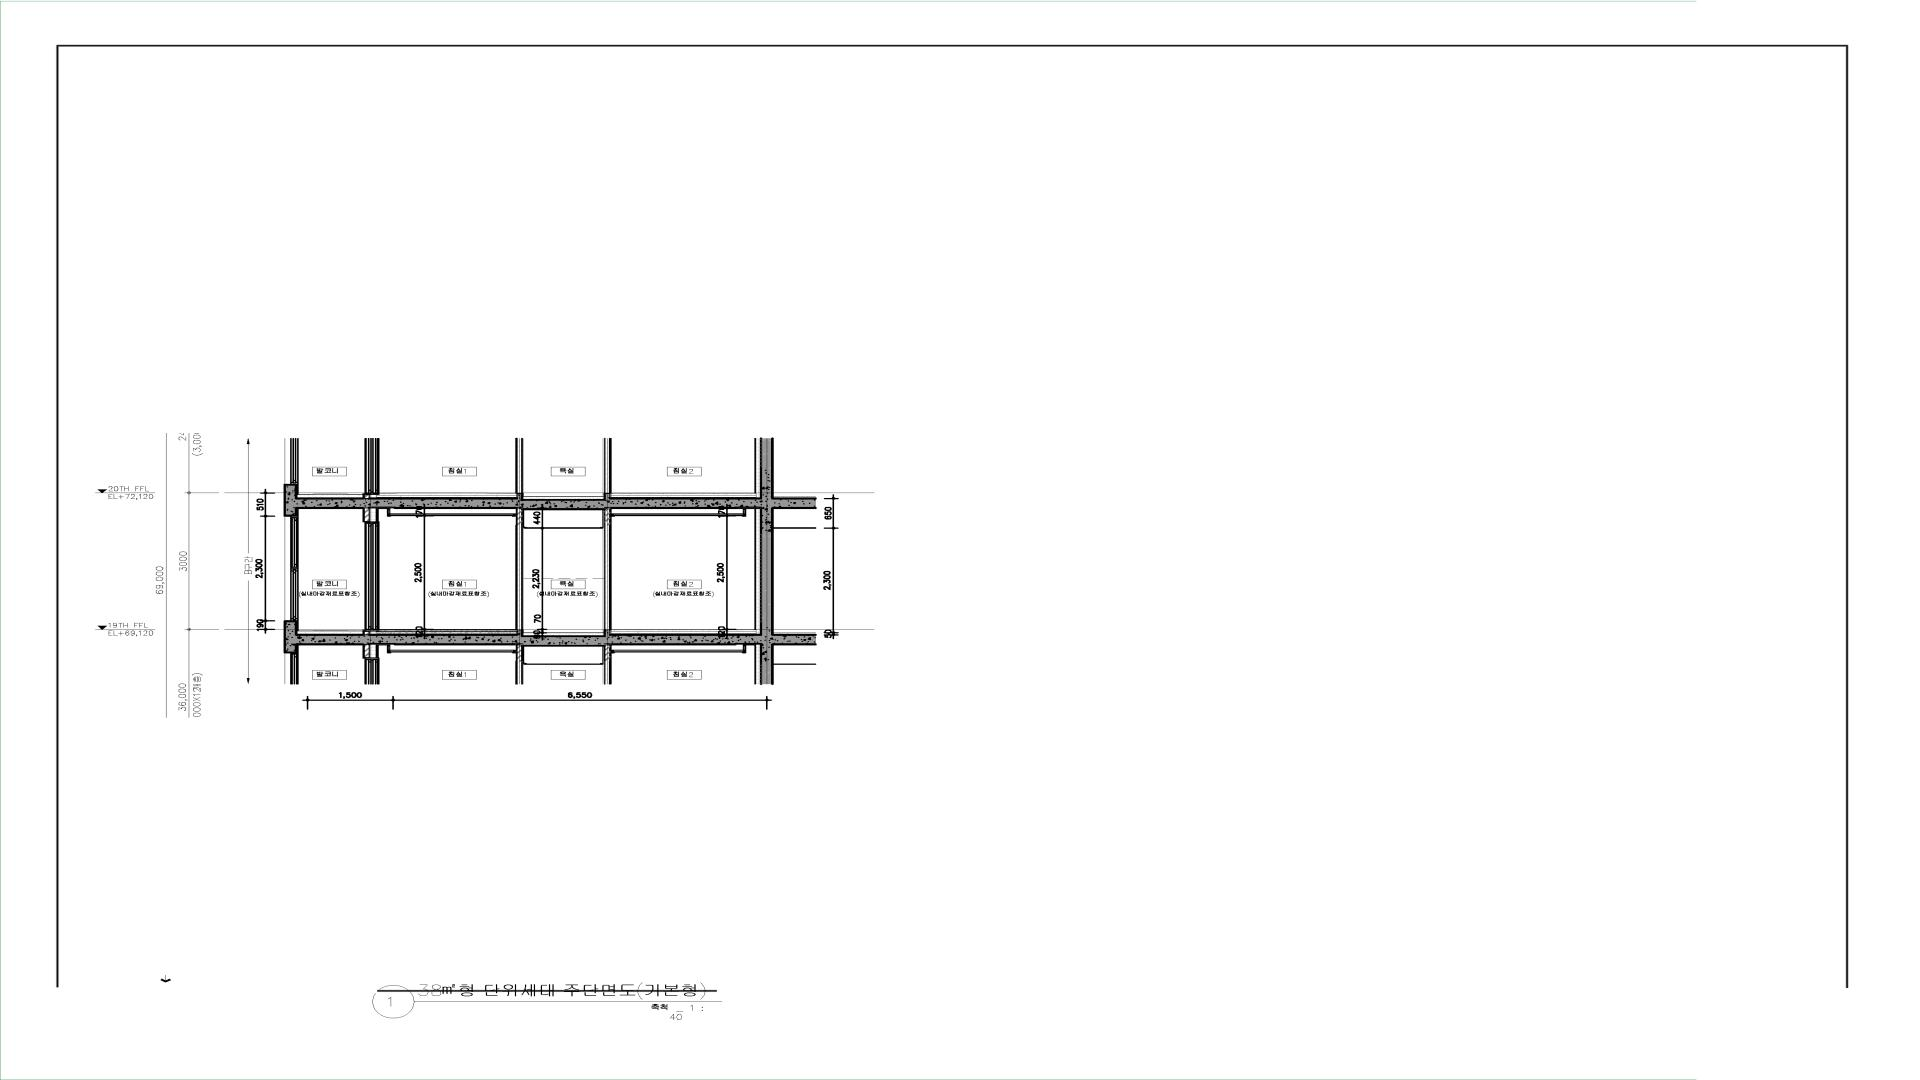background: (0, 0, 1920, 1080)
wall: (283, 484, 774, 646), (603, 509, 611, 630), (515, 509, 523, 629), (362, 509, 370, 521)
window: (364, 521, 380, 631), (284, 516, 299, 620)
